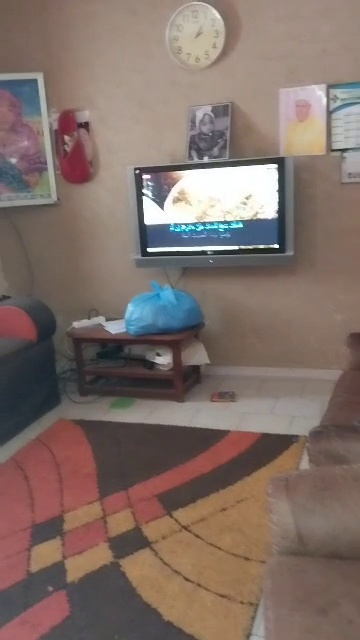television: (122, 150, 310, 275)
